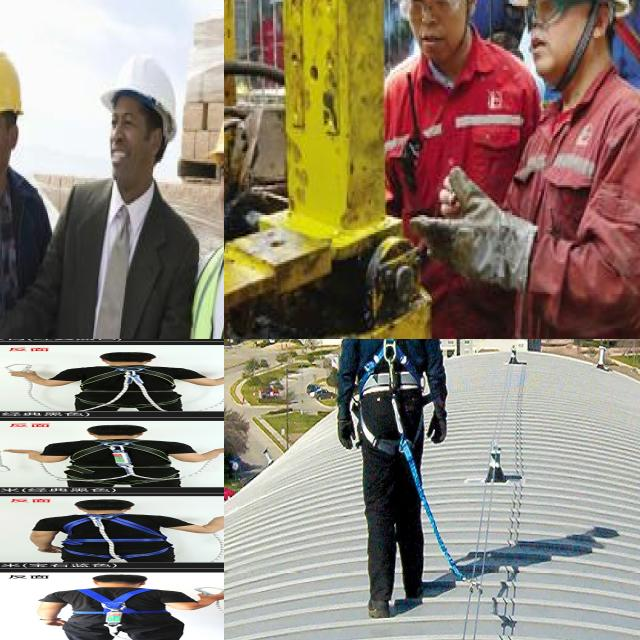Harness: (358, 339, 425, 459), (42, 514, 175, 560), (59, 364, 188, 408), (59, 586, 174, 634), (60, 440, 179, 481)
No_Ear-Protection: (577, 0, 622, 46), (148, 120, 164, 162), (5, 119, 20, 155), (465, 0, 479, 16)
No_Glasses: (105, 108, 146, 135)
face_nomask: (532, 5, 584, 85), (103, 99, 145, 188), (410, 12, 465, 54)
glasses: (526, 0, 584, 29), (399, 0, 472, 23)
hand_glove: (412, 166, 538, 290)
head_helmet: (101, 49, 176, 111), (0, 47, 27, 114), (206, 95, 224, 166)
person: (29, 49, 199, 339)
